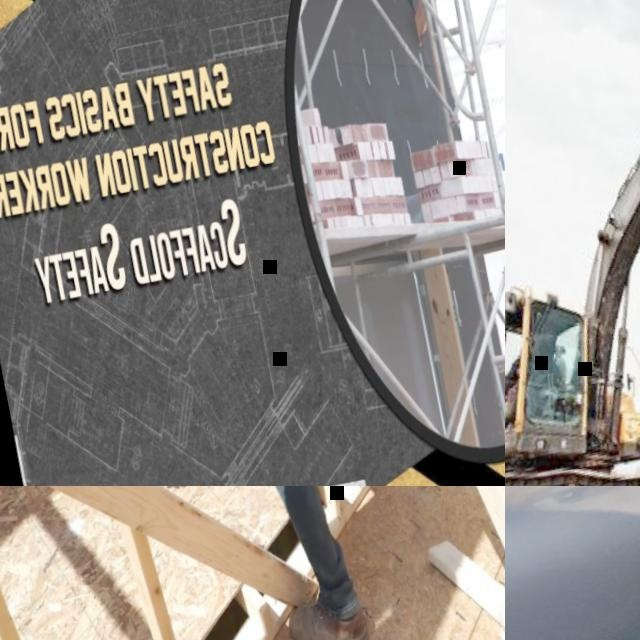Mask: (505, 486, 640, 640)
Person: (75, 486, 453, 640), (505, 486, 640, 640)
machinery: (505, 0, 640, 486)
